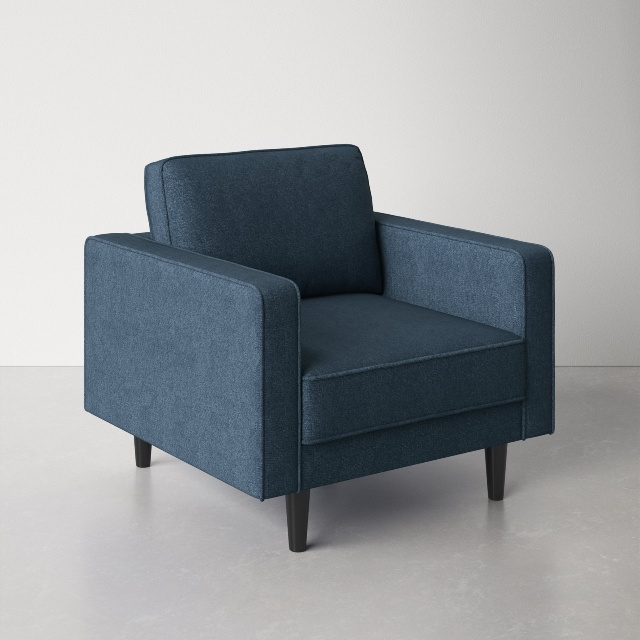obstacle: (84, 145, 553, 551)
